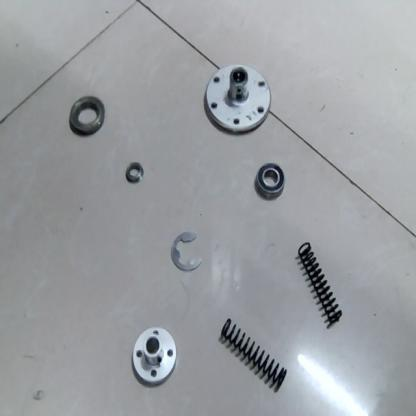FOD: (200, 60, 274, 144), (217, 316, 291, 396), (293, 236, 347, 328), (130, 324, 182, 388), (63, 94, 108, 140), (165, 230, 205, 275), (250, 160, 288, 204), (121, 162, 146, 188)
